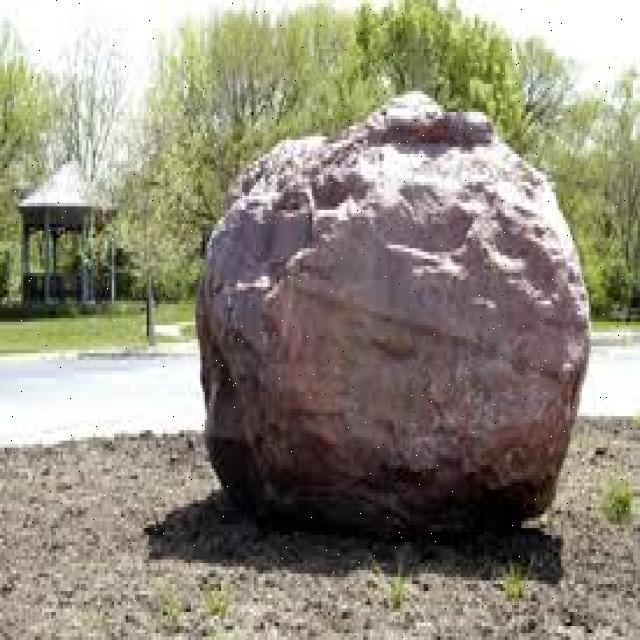Metamorphic: (191, 88, 600, 510)
